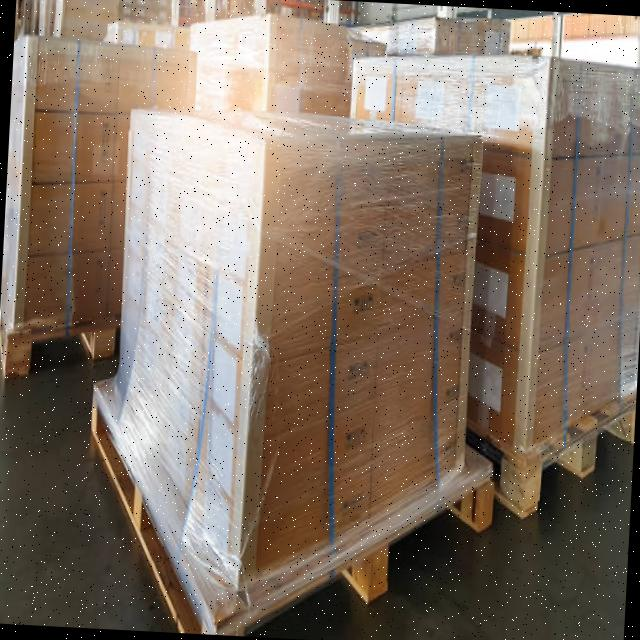Wooden-Pallets: (80, 375, 495, 637), (512, 382, 637, 532)
